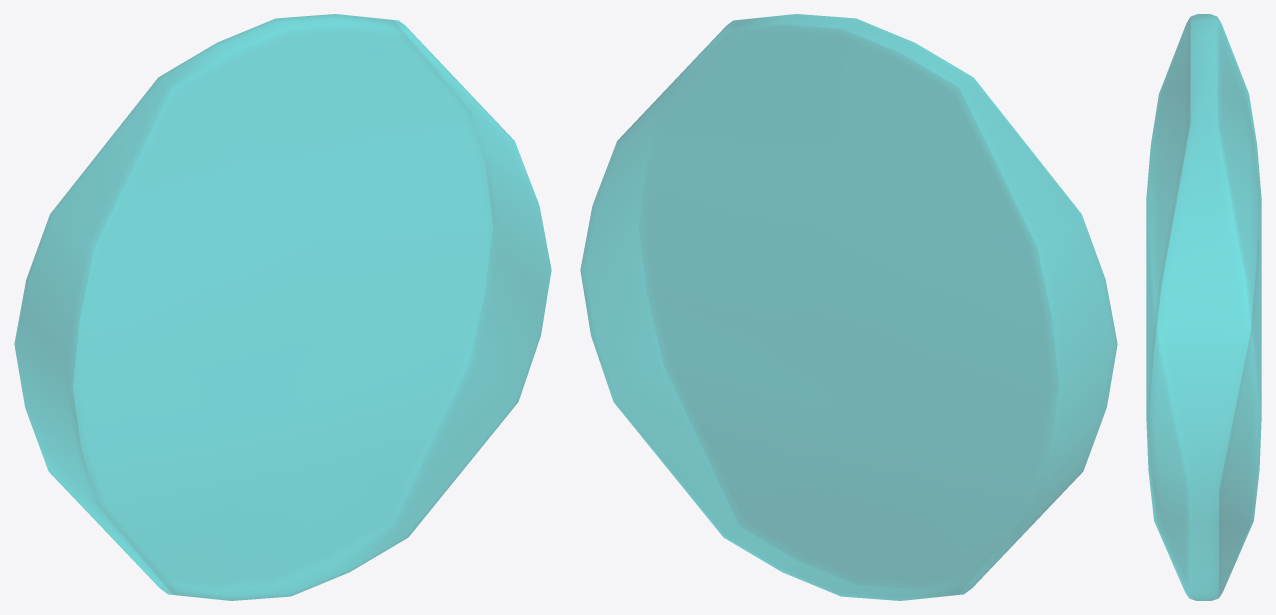
File: convex lens.fbx
3 renders of one model, left to right at view 1: azimuth 30°, elevation 25°; view 2: azimuth 150°, elevation 25°; view 3: azimuth 270°, elevation 25°, orthographic. The views are drawn at different scales.
Visible parts, largest first — view 1: convex_lens; view 2: convex_lens; view 3: convex_lens.
Boxes of the visible parts, x1,y1,x2,y2 form: convex_lens: [14, 14, 551, 600]; convex_lens: [580, 14, 1117, 600]; convex_lens: [1146, 14, 1261, 600].
Size of the model in its own units: 97.67 by 110 by 21.55.
